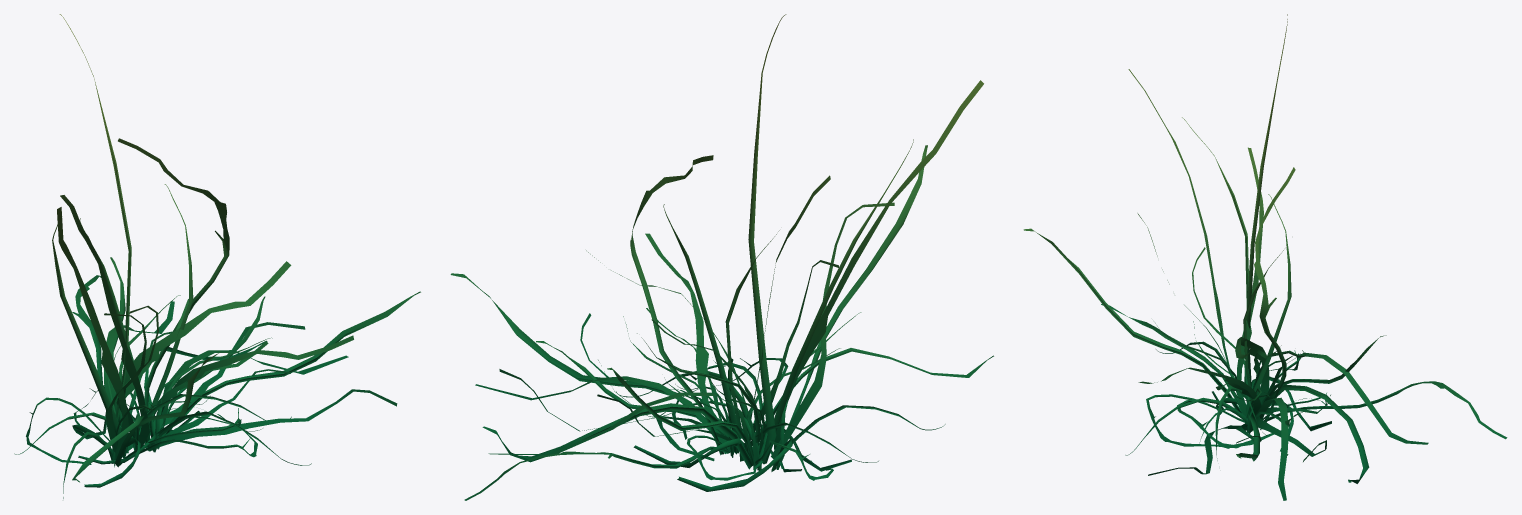
The model's file is grass_medium_02_1.glb.
3 renders of one model, left to right at view 1: azimuth 30°, elevation 25°; view 2: azimuth 150°, elevation 25°; view 3: azimuth 270°, elevation 25°, orthographic. The views are drawn at different scales.
Visible parts, largest first — view 1: grass_medium_02_b; view 2: grass_medium_02_b; view 3: grass_medium_02_b.
Part boxes in pixels (x1,y1,x2,y2): grass_medium_02_b: (14,14,420,498); grass_medium_02_b: (450,14,993,500); grass_medium_02_b: (1023,14,1507,500).
Bounding box in the file's own units: 0.1791 × 0.1796 × 0.1993.
